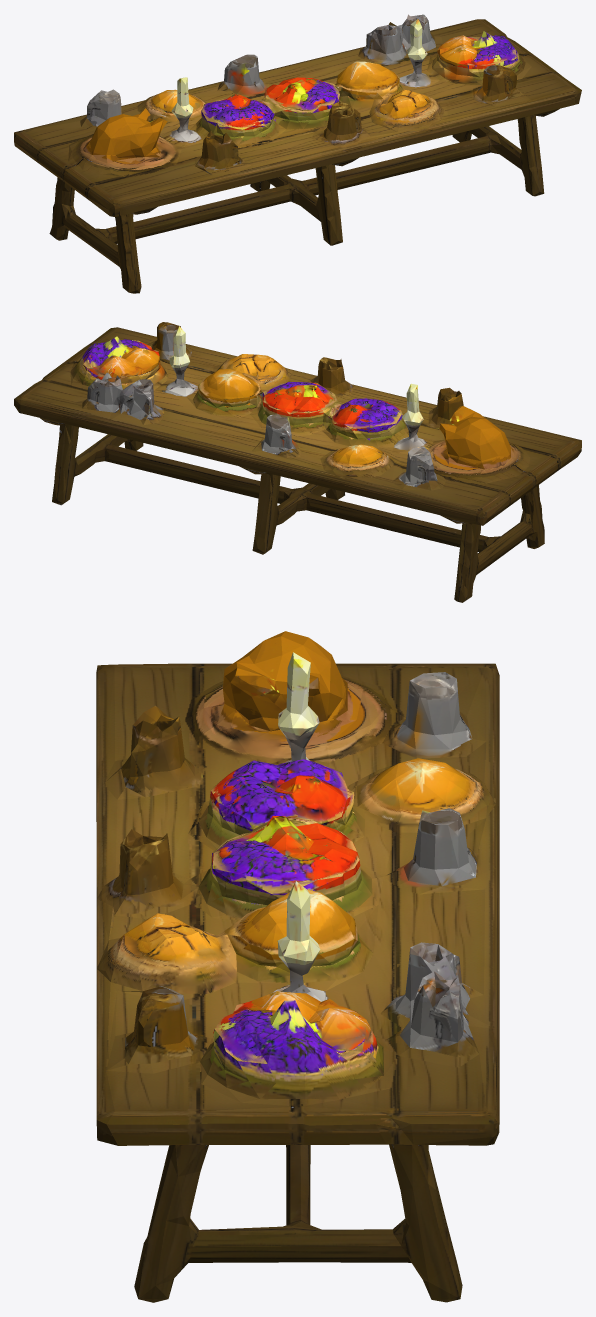
Rendered from tut_banquettable.glb.
The picture shows the model from 3 angles, top to bottom: view 1: azimuth 30°, elevation 25°; view 2: azimuth 150°, elevation 25°; view 3: azimuth 270°, elevation 25°; orthographic projection. The views are drawn at different scales.
Visible parts, largest first — view 1: tut_banquettable; view 2: tut_banquettable; view 3: tut_banquettable.
Part boxes in pixels (x1=…): tut_banquettable: x1=14, y1=14, x2=581, y2=293; tut_banquettable: x1=14, y1=322, x2=581, y2=602; tut_banquettable: x1=96, y1=631, x2=499, y2=1302.
Bounding box in the file's own units: 3.16 × 1.1 × 1.17.
Materials: 1 (1 with a texture image).
